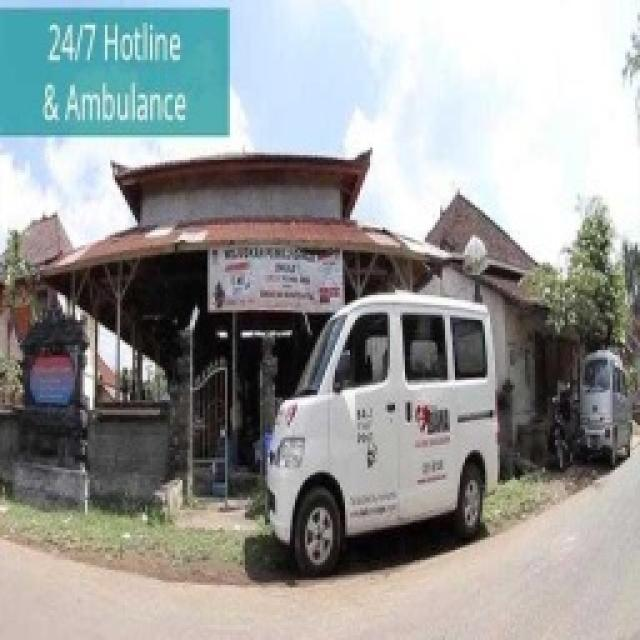ambulance: (265, 290, 500, 572)
